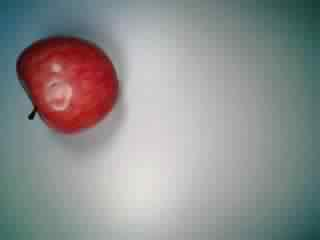apple: (14, 32, 119, 136)
